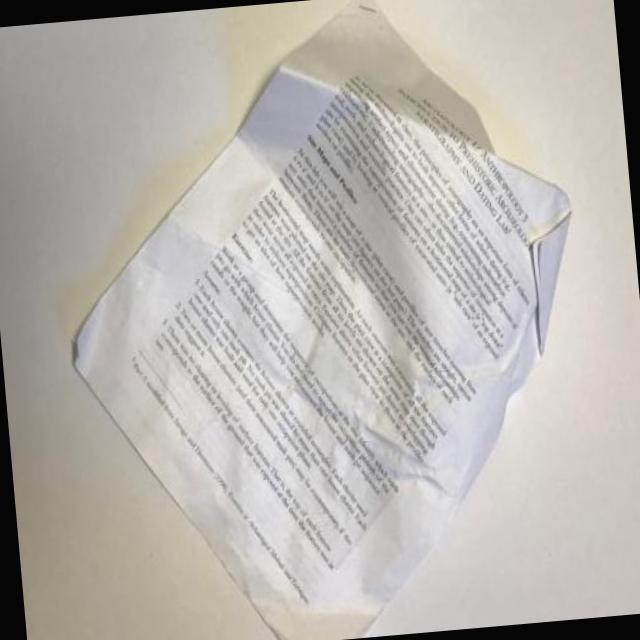giay: (69, 1, 573, 640)
